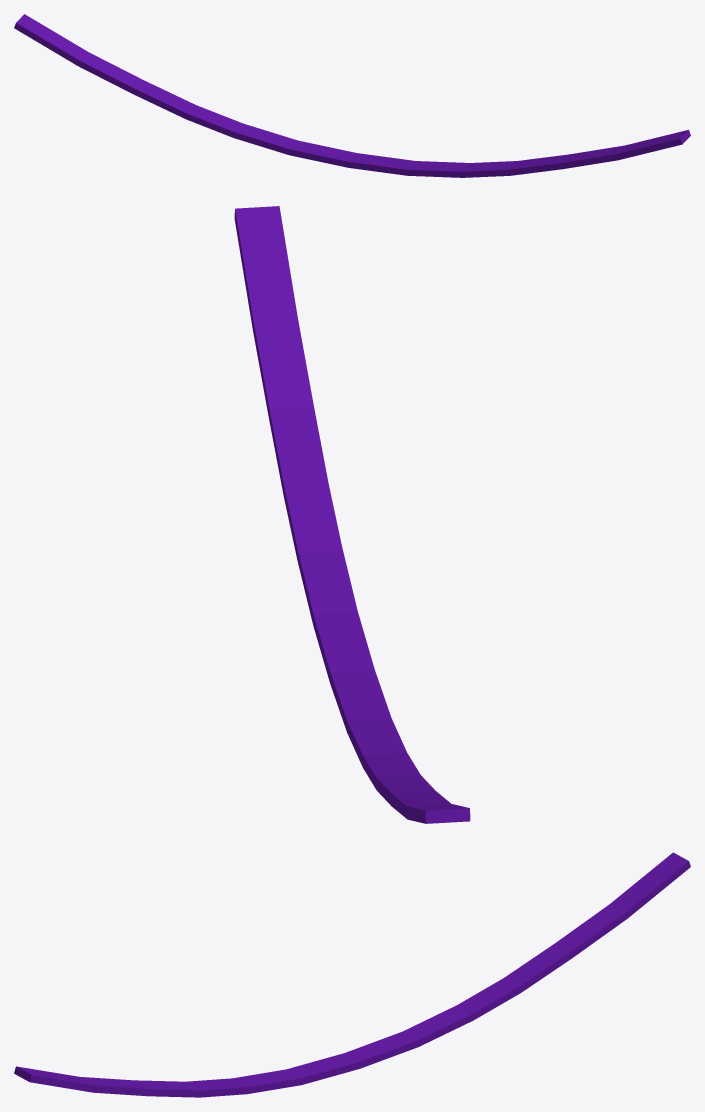
File: Tape_9.fbx
3 views of the same model, one above another, from view 1: azimuth 30°, elevation 25°; view 2: azimuth 150°, elevation 25°; view 3: azimuth 270°, elevation 25° (orthographic). The views are drawn at different scales.
Parts seen in each view (by area): view 1: Tape_9; view 2: Tape_9; view 3: Tape_9.
Part boxes in pixels (<box>): Tape_9: <box>14,14,690,177</box>; Tape_9: <box>234,206,470,823</box>; Tape_9: <box>14,852,690,1097</box>.
Size of the model in its own units: 493 by 103 by 630.
